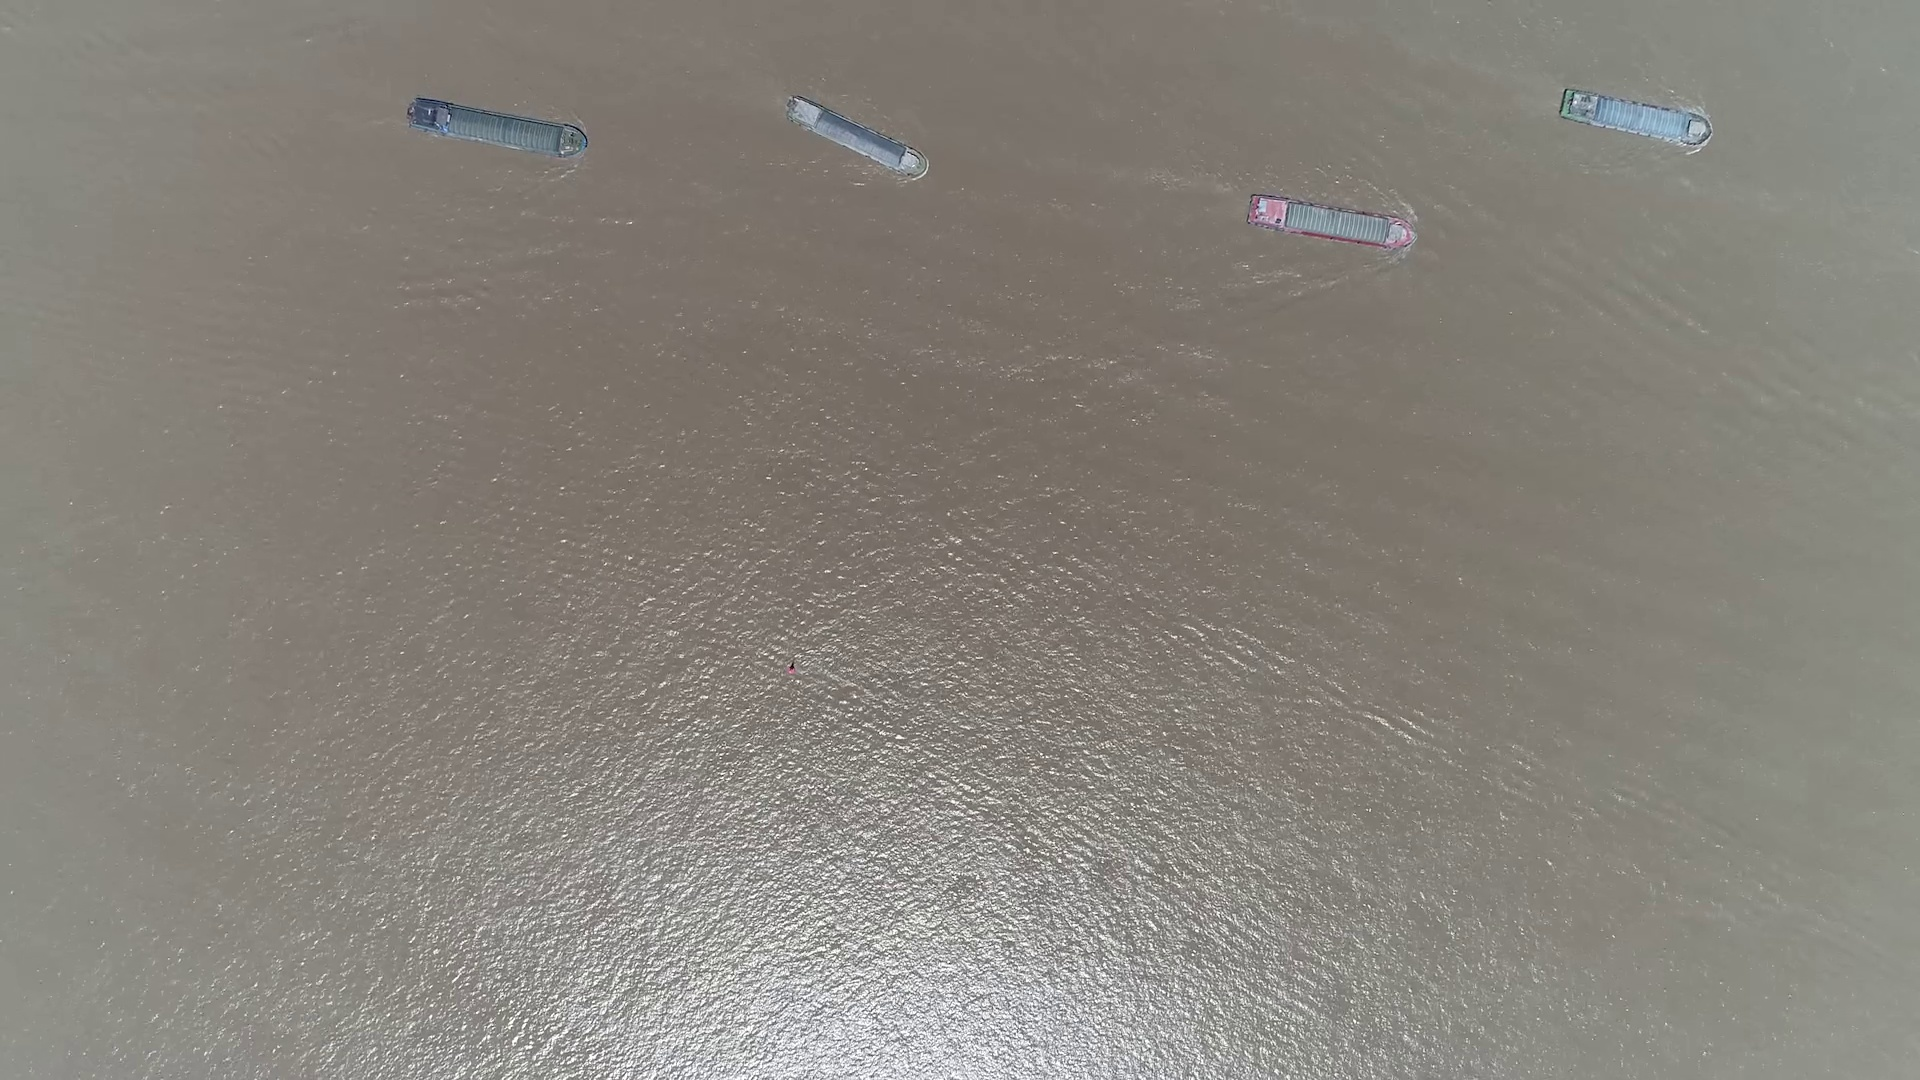ship: (407, 98, 587, 160), (783, 100, 924, 177), (1245, 195, 1415, 251), (1559, 90, 1712, 146)
